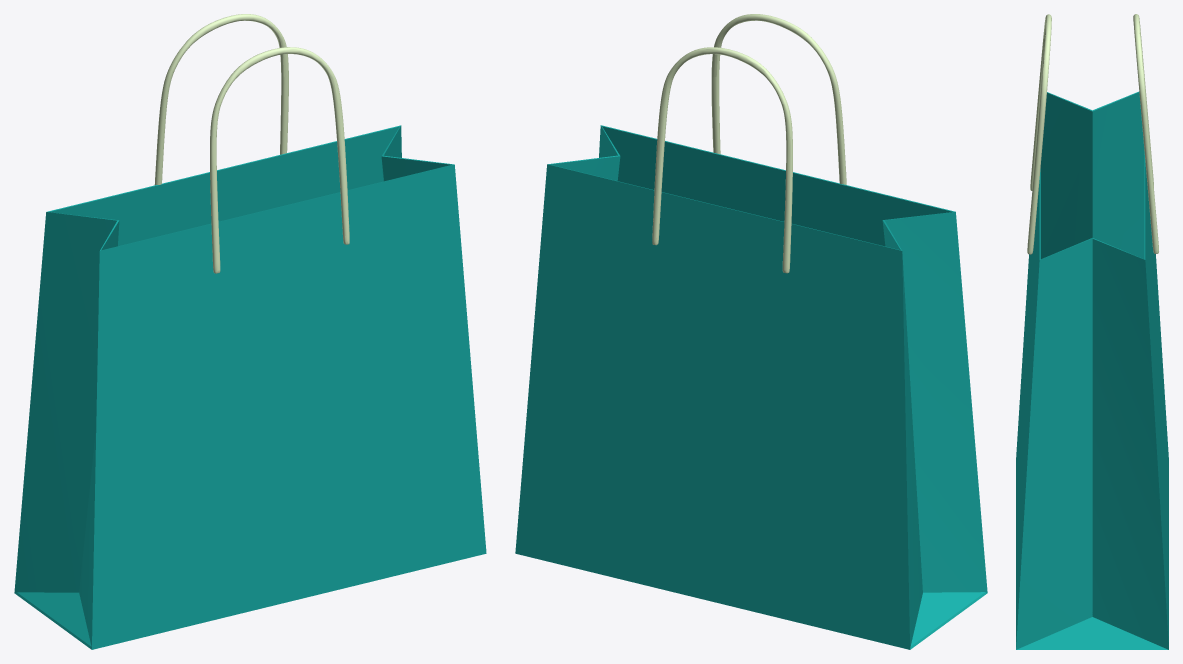
The model's file is shoppingBag_seperate.glb.
3 views of the same model, side by side, from view 1: azimuth 30°, elevation 25°; view 2: azimuth 150°, elevation 25°; view 3: azimuth 270°, elevation 25° (orthographic).
Visible parts, largest first — view 1: Plane_Material.002_0.002; view 2: Plane_Material.002_0.002; view 3: Plane_Material.002_0.002.
Part boxes in pixels (x1,y1,x2,y2): Plane_Material.002_0.002: (14,14,486,649); Plane_Material.002_0.002: (515,14,987,649); Plane_Material.002_0.002: (1016,14,1168,649).
Bounding box in the file's own units: 3.66 × 4.79 × 1.25.
